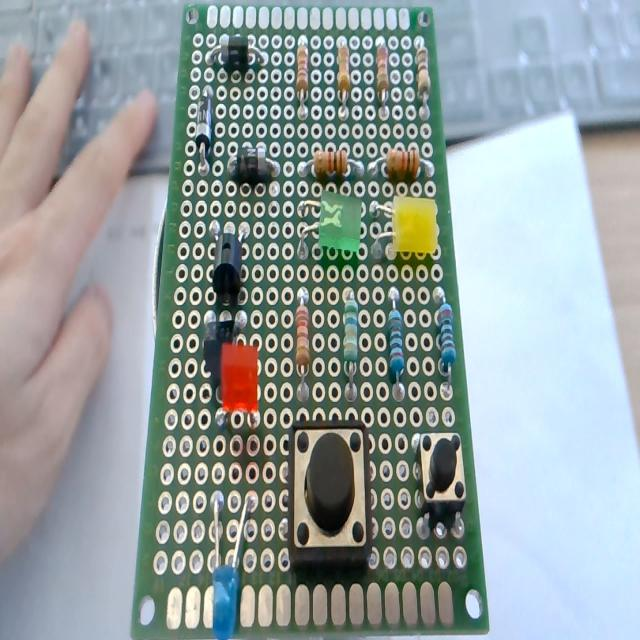diode: (208, 21, 270, 73), (224, 138, 282, 186), (191, 82, 218, 175)
led: (371, 188, 443, 282), (207, 502, 253, 640), (291, 188, 367, 270), (216, 347, 266, 441)
resistor: (382, 283, 414, 399), (428, 282, 458, 393), (341, 286, 369, 404), (303, 144, 366, 184), (294, 282, 316, 391), (371, 145, 433, 178), (408, 37, 432, 111), (293, 29, 315, 108), (333, 38, 353, 116), (373, 28, 389, 114)
switch: (281, 415, 377, 562), (410, 431, 468, 533)
transistor: (205, 210, 259, 292)
